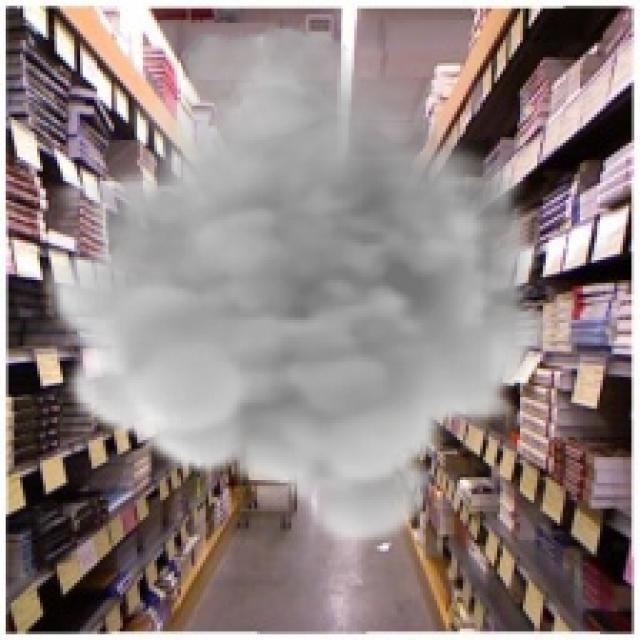smoke: (37, 23, 552, 551)
